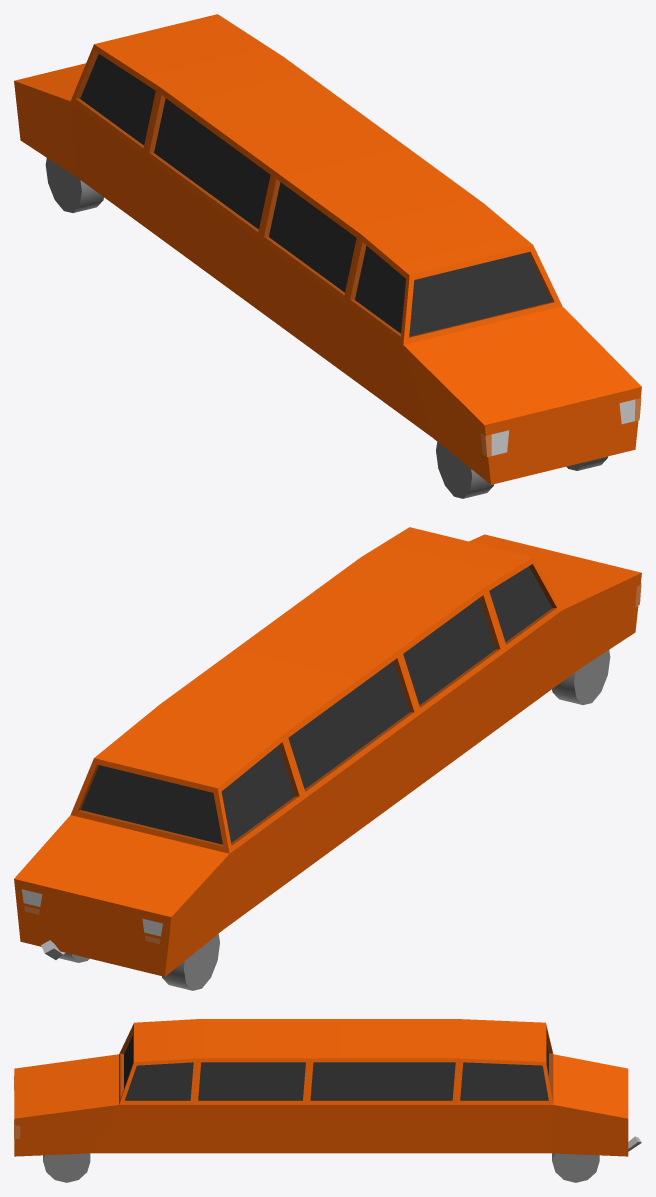
Rendered from limo_01.fbx.
3 views of the same model, one above another, from view 1: azimuth 30°, elevation 25°; view 2: azimuth 150°, elevation 25°; view 3: azimuth 270°, elevation 25° (orthographic). The views are drawn at different scales.
Parts seen in each view (by area): view 1: limo_01; view 2: limo_01; view 3: limo_01.
Part boxes in pixels (x1,y1,x2,y2): limo_01: [14, 14, 641, 498]; limo_01: [14, 527, 641, 990]; limo_01: [14, 1019, 641, 1182].
Bounding box in the file's own units: 1.6 × 1.8 × 8.39.
